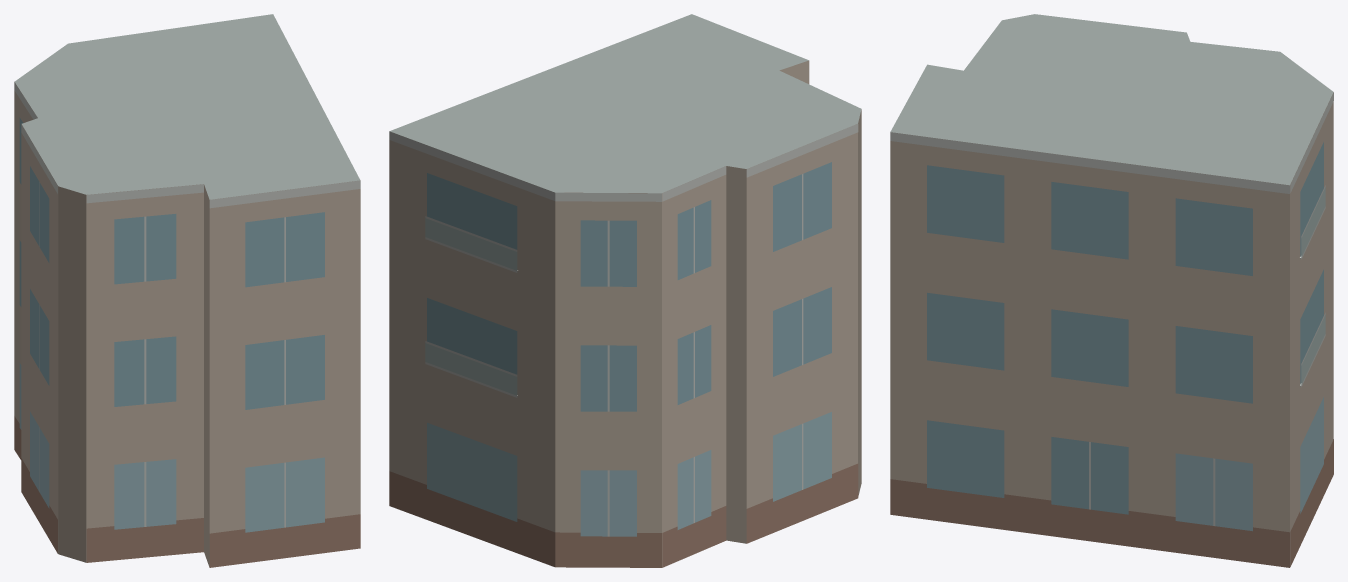
The model's file is survey-upis-32619992.glb.
The picture shows the model from 3 angles, left to right: view 1: azimuth 30°, elevation 25°; view 2: azimuth 150°, elevation 25°; view 3: azimuth 270°, elevation 25°; orthographic projection. The views are drawn at different scales.
Visible parts, largest first — view 1: survey-upis-32619992.tmp; view 2: survey-upis-32619992.tmp; view 3: survey-upis-32619992.tmp.
Boxes of the visible parts, left/top/right/bottom form: survey-upis-32619992.tmp: left=14, top=14, right=360, bottom=567; survey-upis-32619992.tmp: left=389, top=14, right=861, bottom=567; survey-upis-32619992.tmp: left=890, top=14, right=1333, bottom=567.
Bounding box in the file's own units: 10.14 × 10.55 × 11.09.
